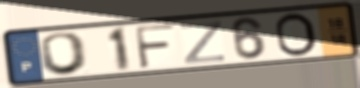1: (107, 24, 136, 74)
6: (230, 16, 269, 62)
F: (133, 22, 178, 70)
O: (38, 31, 92, 77), (273, 11, 320, 58)
Z: (179, 19, 227, 66)
